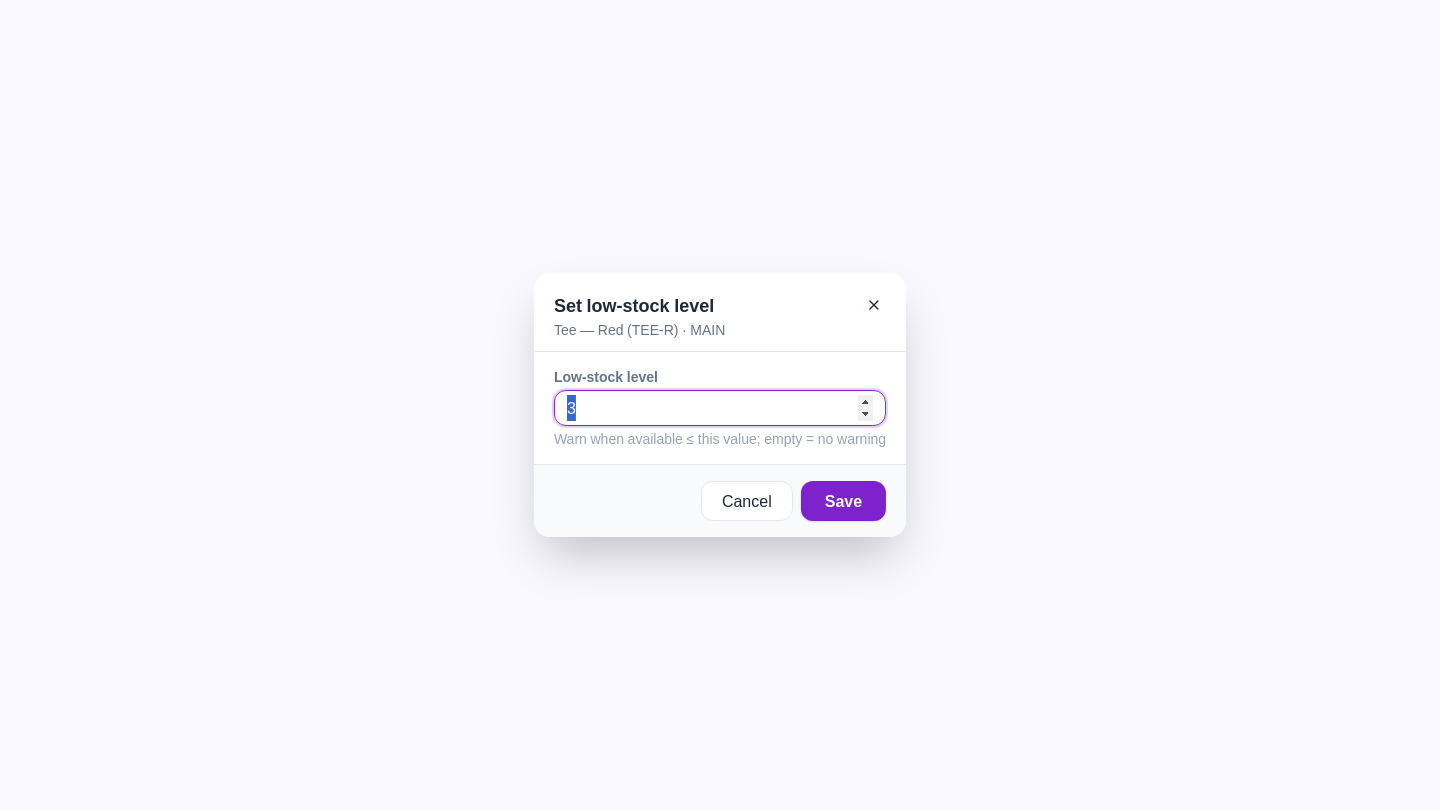
Scenario: ThresholdDialog › ຂໍ້ຜິດພາດ API ສະແດງແບບແປ ແລະ dialog ຍັງເປີດ
Step 1. Click the button "Save" → {"x": 843, "y": 501}, box [801,481,886,521]
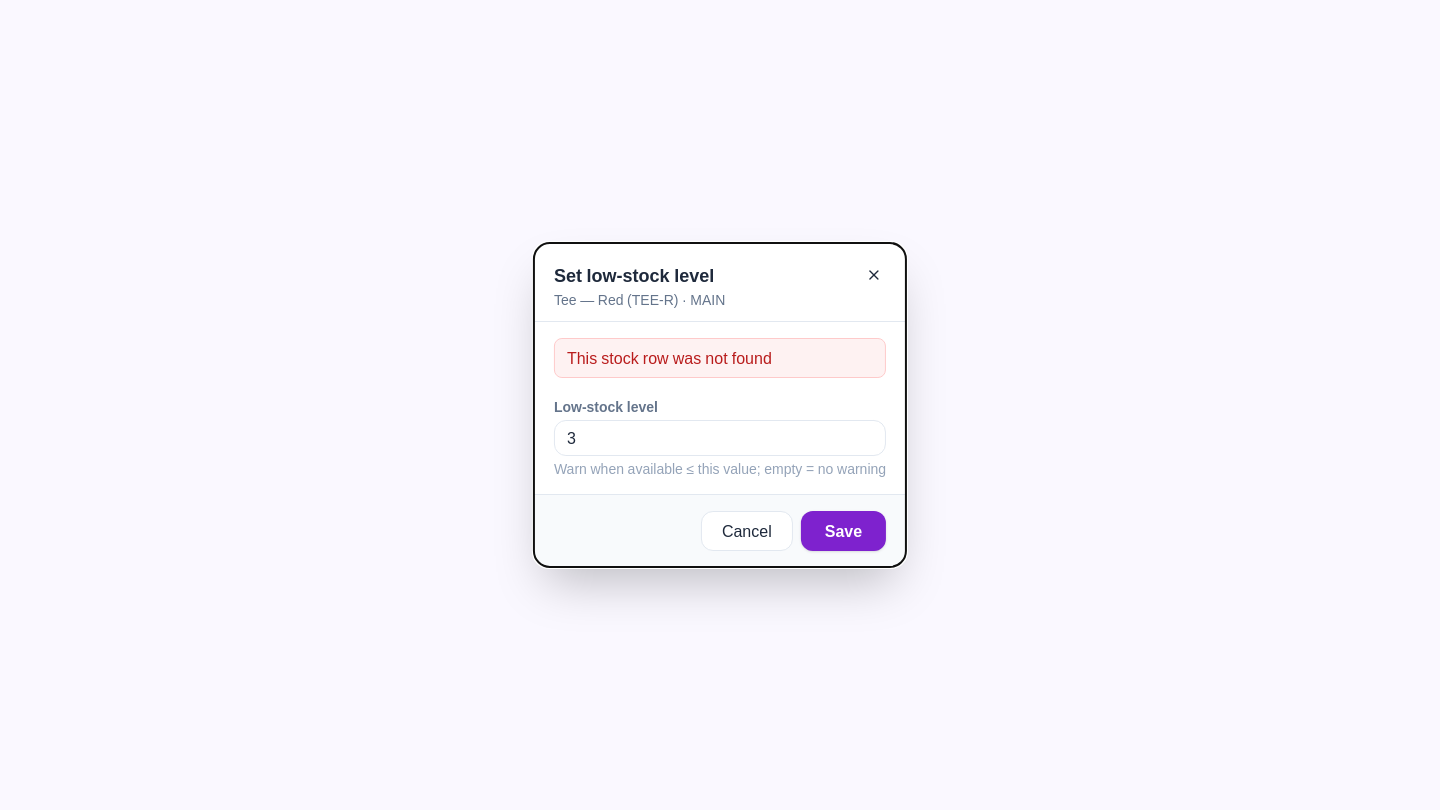
expect the button "Save" is enabled: met, box [801,511,886,551]
expect the message reads "This stock row was not found": met, box [567,345,772,371]
